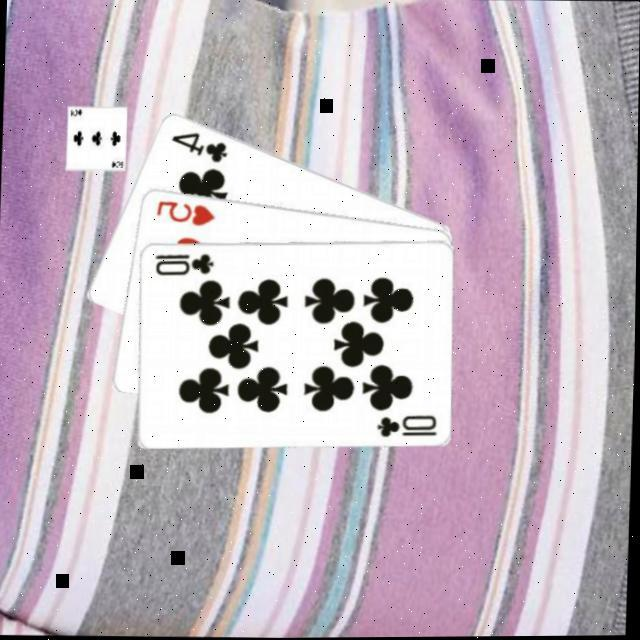10C: (372, 410, 438, 440), (150, 248, 215, 277)
4C: (166, 128, 228, 164)
5H: (151, 195, 216, 228)
